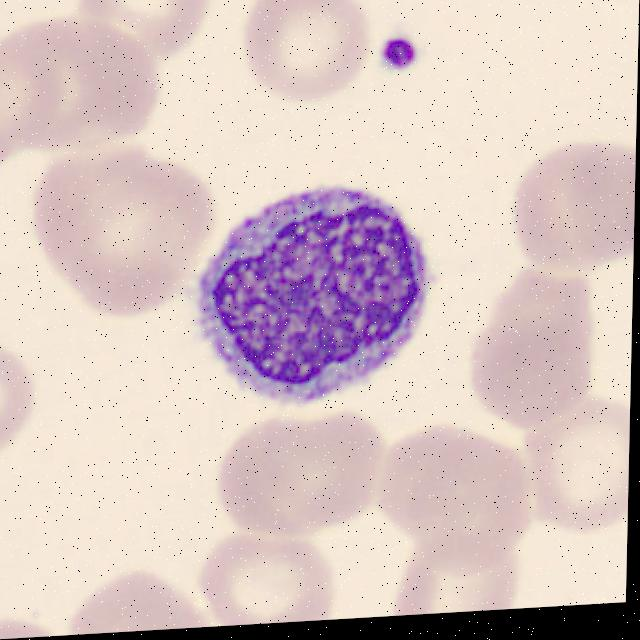monocyte: (200, 180, 425, 384)
platelets: (370, 32, 428, 83)
rbc: (455, 258, 614, 443), (6, 0, 164, 168), (66, 162, 217, 324), (7, 132, 148, 295), (398, 426, 541, 578), (247, 408, 386, 553), (509, 136, 636, 287), (519, 391, 630, 541), (212, 402, 324, 547), (374, 405, 485, 549), (240, 0, 370, 117), (196, 526, 343, 627), (66, 554, 209, 635), (390, 534, 521, 616), (68, 0, 216, 67), (0, 29, 54, 160), (0, 342, 29, 449)
